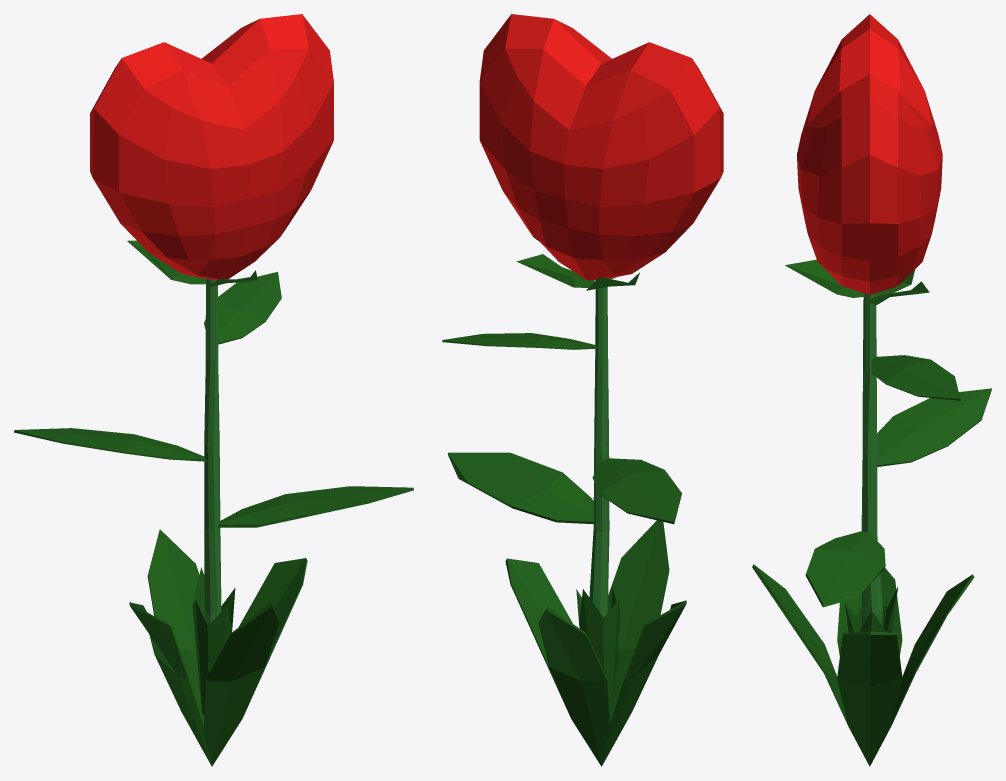
Rendered from HeartFlower 3.fbx.
3 views of the same model, side by side, from view 1: azimuth 30°, elevation 25°; view 2: azimuth 150°, elevation 25°; view 3: azimuth 270°, elevation 25° (orthographic). The views are drawn at different scales.
Visible parts, largest first — view 1: HeartFlower.3; view 2: HeartFlower.3; view 3: HeartFlower.3.
Part boxes in pixels (bbox=[...]): HeartFlower.3: bbox=[14, 14, 413, 766]; HeartFlower.3: bbox=[442, 14, 723, 766]; HeartFlower.3: bbox=[752, 14, 991, 766].
Size of the model in its own units: 52.01 by 117 by 35.52.
